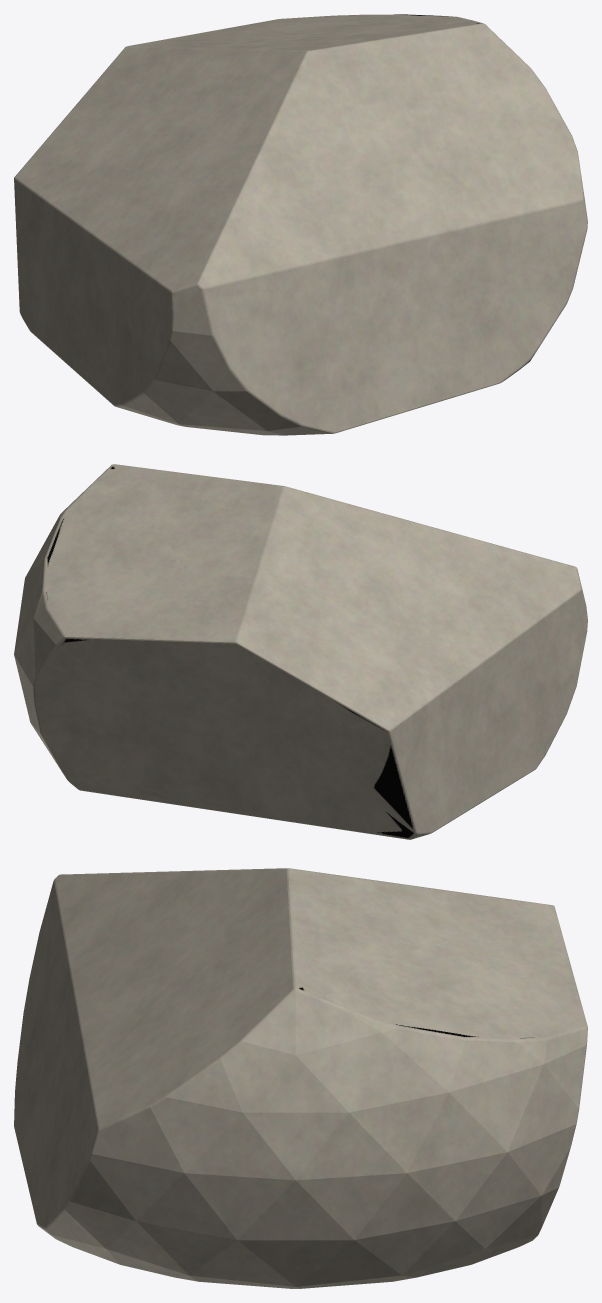
File: boulder_big.glb
3 views of the same model, one above another, from view 1: azimuth 30°, elevation 25°; view 2: azimuth 150°, elevation 25°; view 3: azimuth 270°, elevation 25° (orthographic). The views are drawn at different scales.
Visible parts, largest first — view 1: boulder_big; view 2: boulder_big; view 3: boulder_big.
Part boxes in pixels (<box>): boulder_big: <box>14,14,587,435</box>; boulder_big: <box>14,464,587,839</box>; boulder_big: <box>14,868,587,1288</box>.
Bounding box in the file's own units: 2.98 × 1.63 × 2.73.
1 material, 1 textured.
